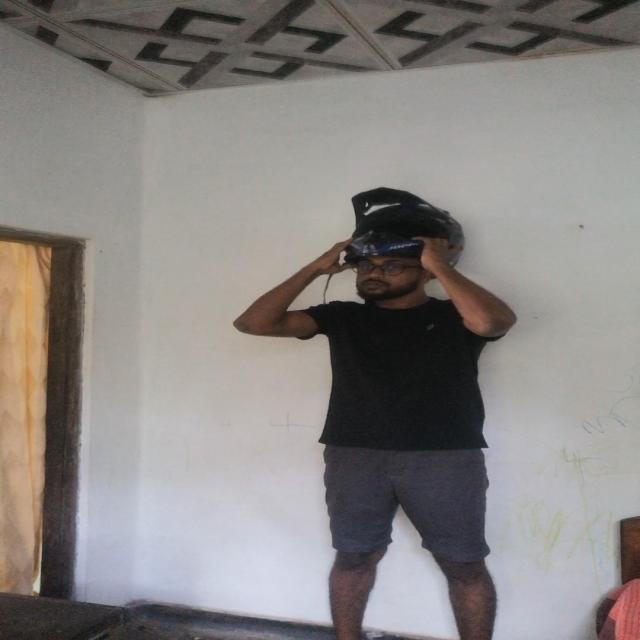Helmet_Wearer: (320, 177, 482, 309)
Person: (240, 196, 511, 640)
